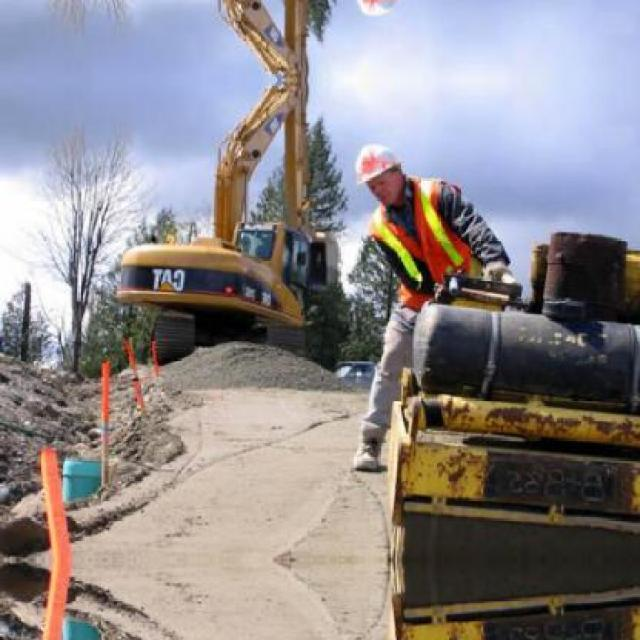Reflective-Jacket: (362, 180, 483, 314)
Safety-Helmet: (346, 135, 411, 191)
